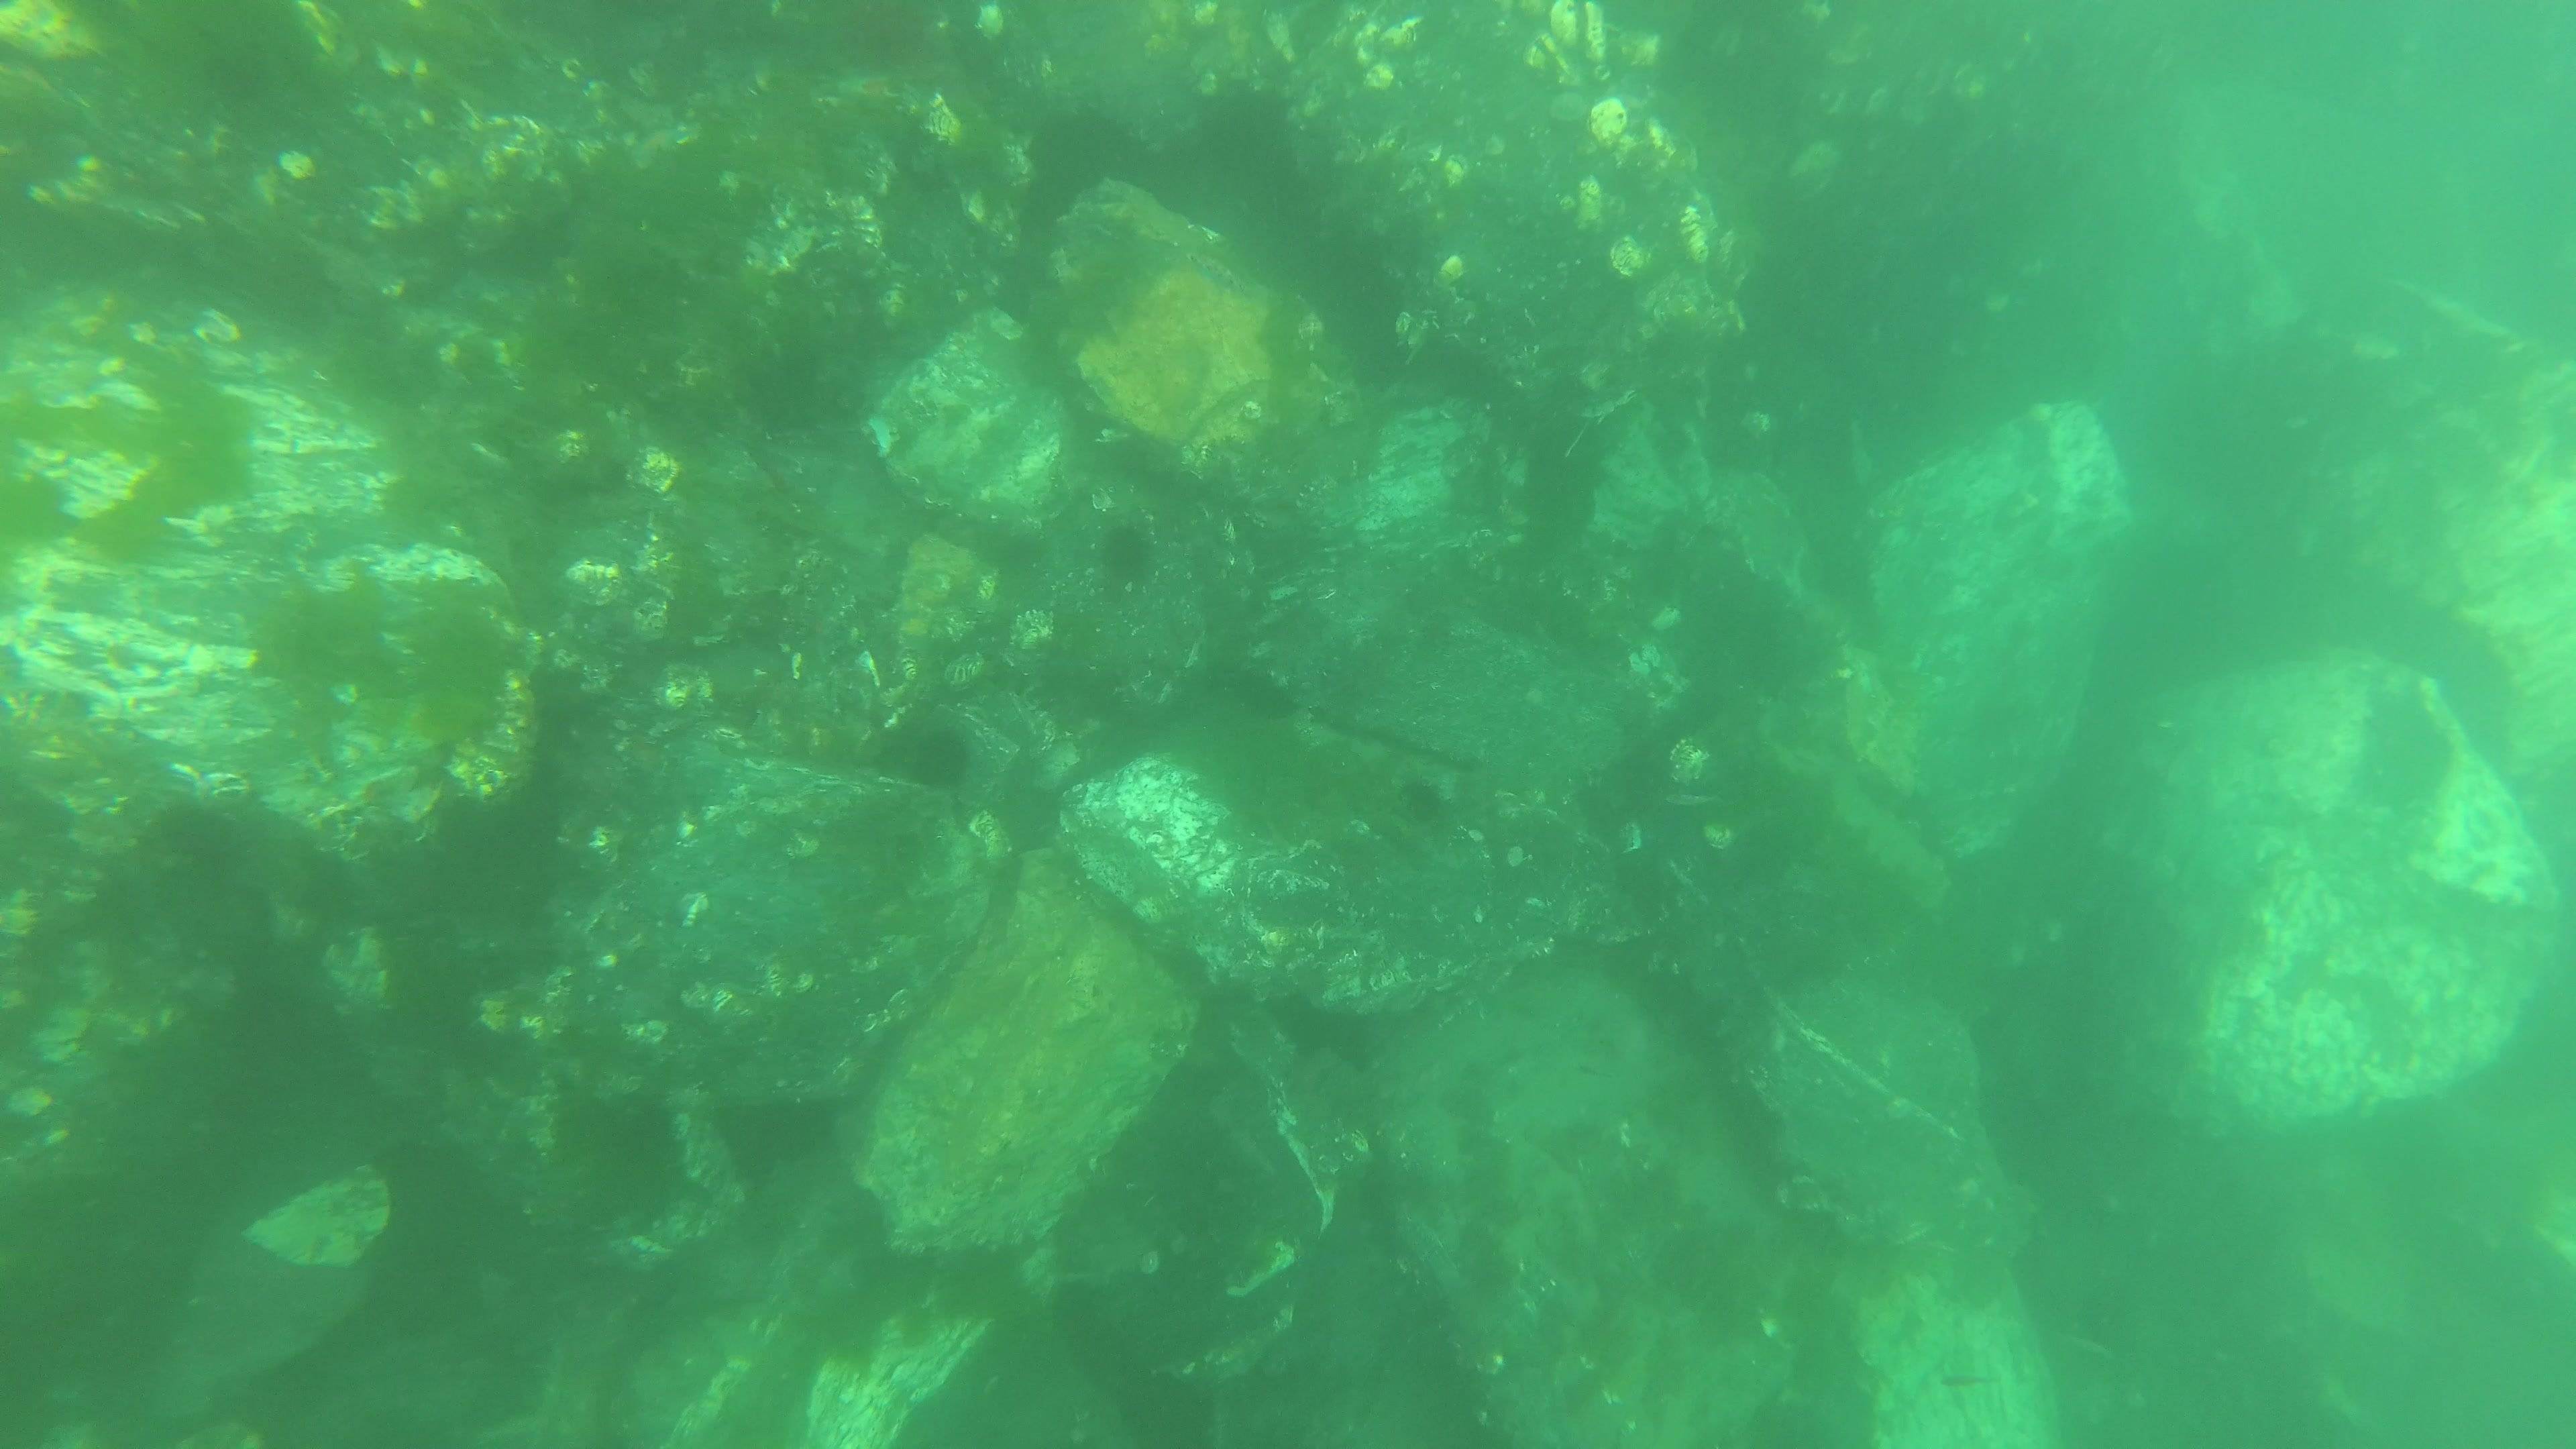echinus: (1389, 757, 1451, 826), (1093, 525, 1155, 593), (906, 732, 970, 789)
